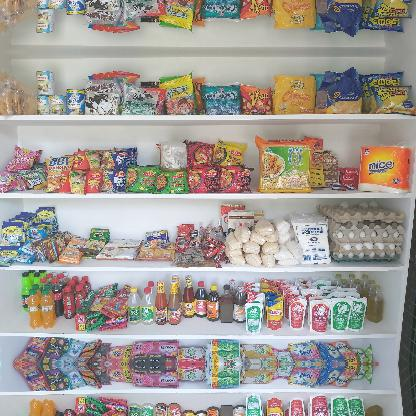Lady-s-Choice: (160, 142, 188, 172)
